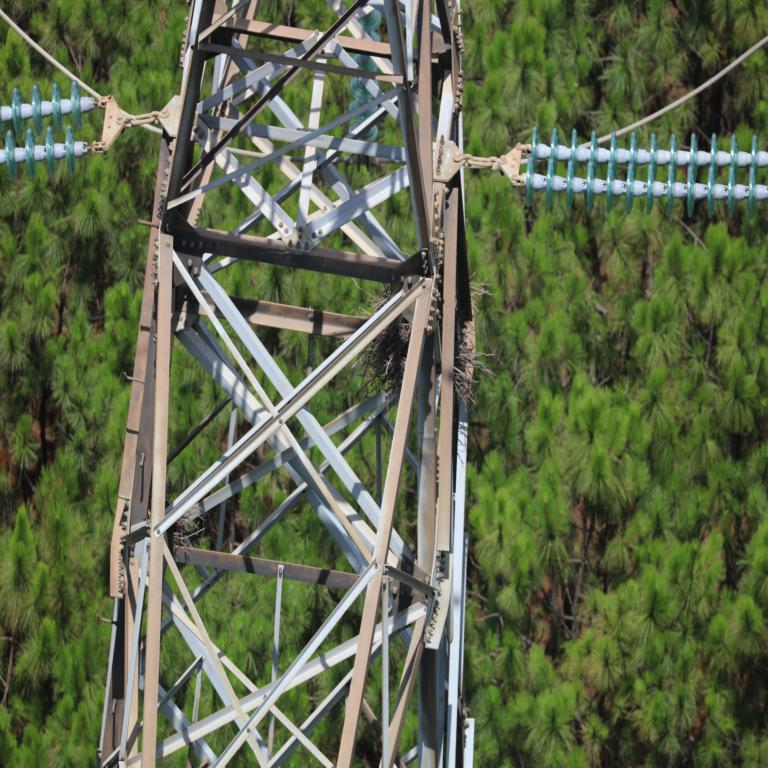nest: (358, 289, 466, 398)
